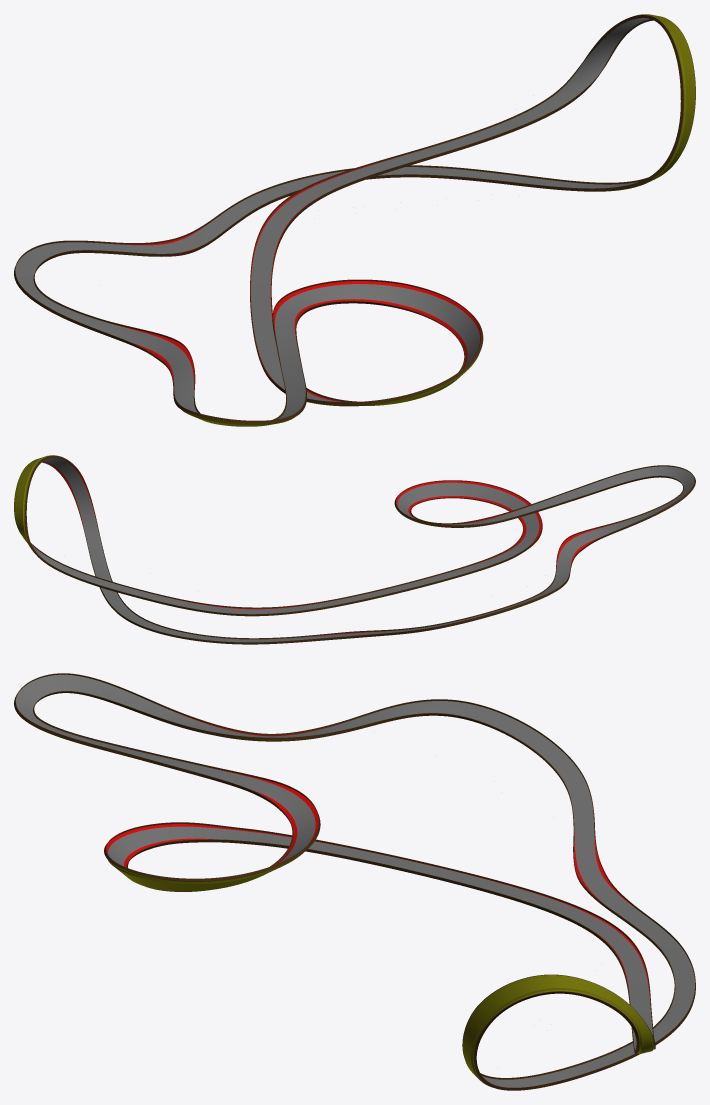
File: RoadMesh.fbx
3 renders of one model, top to bottom at view 1: azimuth 30°, elevation 25°; view 2: azimuth 150°, elevation 25°; view 3: azimuth 270°, elevation 25°, orthographic. The views are drawn at different scales.
Parts seen in each view (by area): view 1: OUTPUT_GEO; view 2: OUTPUT_GEO; view 3: OUTPUT_GEO.
Part boxes in pixels (<box>): OUTPUT_GEO: <box>14,14,695,426</box>; OUTPUT_GEO: <box>14,455,695,644</box>; OUTPUT_GEO: <box>14,673,695,1090</box>.
Bounding box in the file's own units: 507 × 101 × 410.
